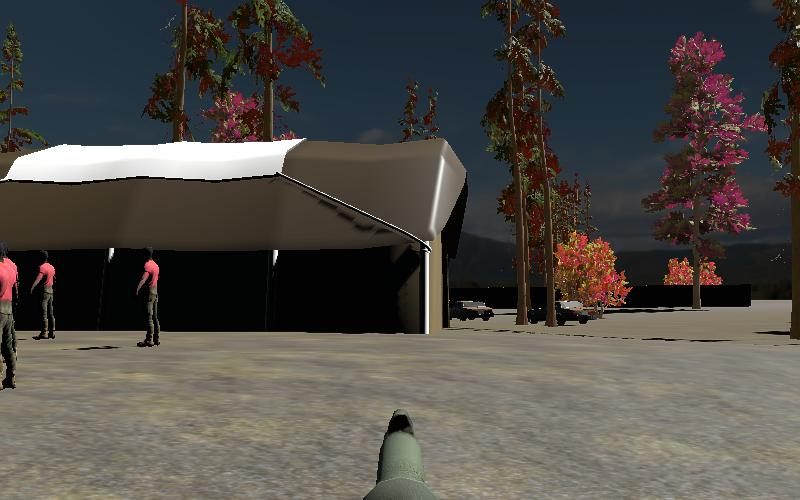Human: (132, 245, 165, 349), (133, 245, 166, 349), (0, 242, 22, 395), (29, 248, 62, 341)
car: (529, 299, 595, 327), (450, 299, 496, 323)
